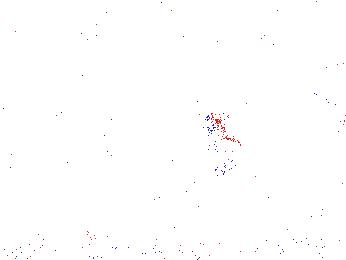flame jellyfish: (277, 171, 346, 223), (191, 112, 242, 179), (306, 51, 346, 127)
